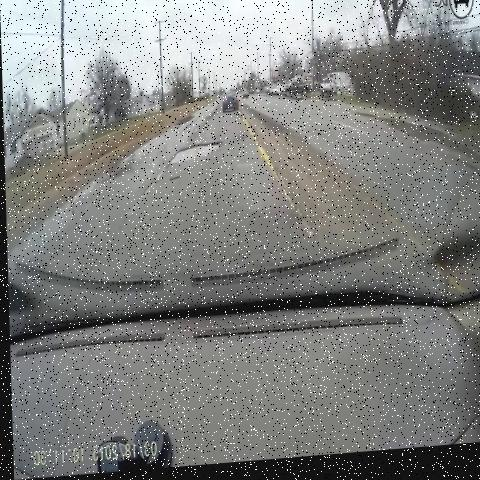pothole: (166, 130, 228, 175), (232, 129, 268, 157), (159, 172, 190, 191)
